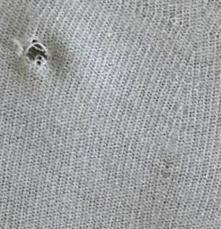hole: (21, 35, 51, 68)
